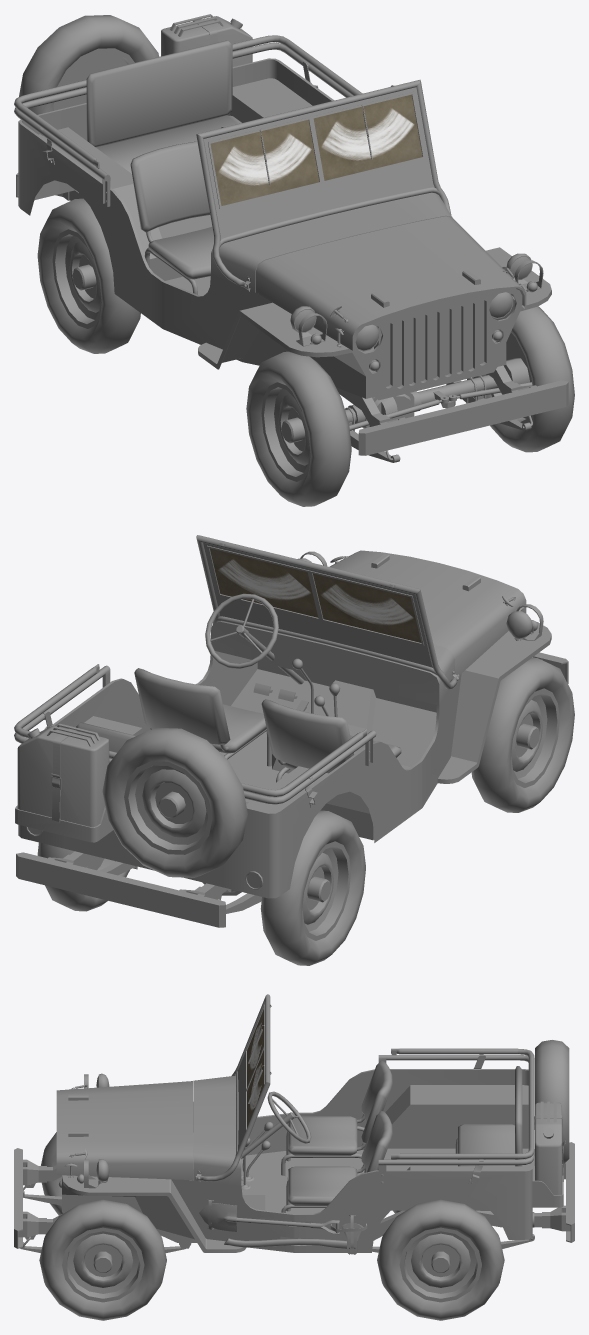
Rendered from Military_Jeep_LOD.FBX.
The picture shows the model from 3 angles, top to bottom: view 1: azimuth 30°, elevation 25°; view 2: azimuth 150°, elevation 25°; view 3: azimuth 270°, elevation 25°; orthographic projection. The views are drawn at different scales.
Visible parts, largest first — view 1: Jeep_body_LOD0, Object001_LOD0, wheel_F_R_LOD0, wheel_B_R_LOD0, wheel_F_L_LOD0; view 2: Jeep_body_LOD0, Object001_LOD0, wheel_F_R_LOD0, wheel_B_R_LOD0, steering_wheel_LOD0, wheel_B_L_LOD0; view 3: Jeep_body_LOD0, wheel_B_L_LOD0, wheel_F_L_LOD0, Object001_LOD0, steering_wheel_LOD0, wheel_F_R_LOD0.
Part boxes in pixels (x1,y1,x2,y2): Jeep_body_LOD0: (14,14,568,462); Object001_LOD0: (196,79,451,290); wheel_F_R_LOD0: (246,351,351,506); wheel_B_R_LOD0: (37,198,140,353); wheel_F_L_LOD0: (472,306,574,452); Jeep_body_LOD0: (14,550,568,927); Object001_LOD0: (196,535,459,689); wheel_F_R_LOD0: (471,658,574,812); wheel_B_R_LOD0: (260,810,365,965); steering_wheel_LOD0: (205,593,303,684); wheel_B_L_LOD0: (37,842,129,911); Jeep_body_LOD0: (14,1040,574,1254); wheel_B_L_LOD0: (377,1199,504,1320); wheel_F_L_LOD0: (39,1199,166,1320); Object001_LOD0: (195,994,271,1181); steering_wheel_LOD0: (241,1091,311,1158); wheel_F_R_LOD0: (41,1132,63,1215).
Size of what is drawn, in the model's own units: 1.55 by 1.56 by 3.36.
